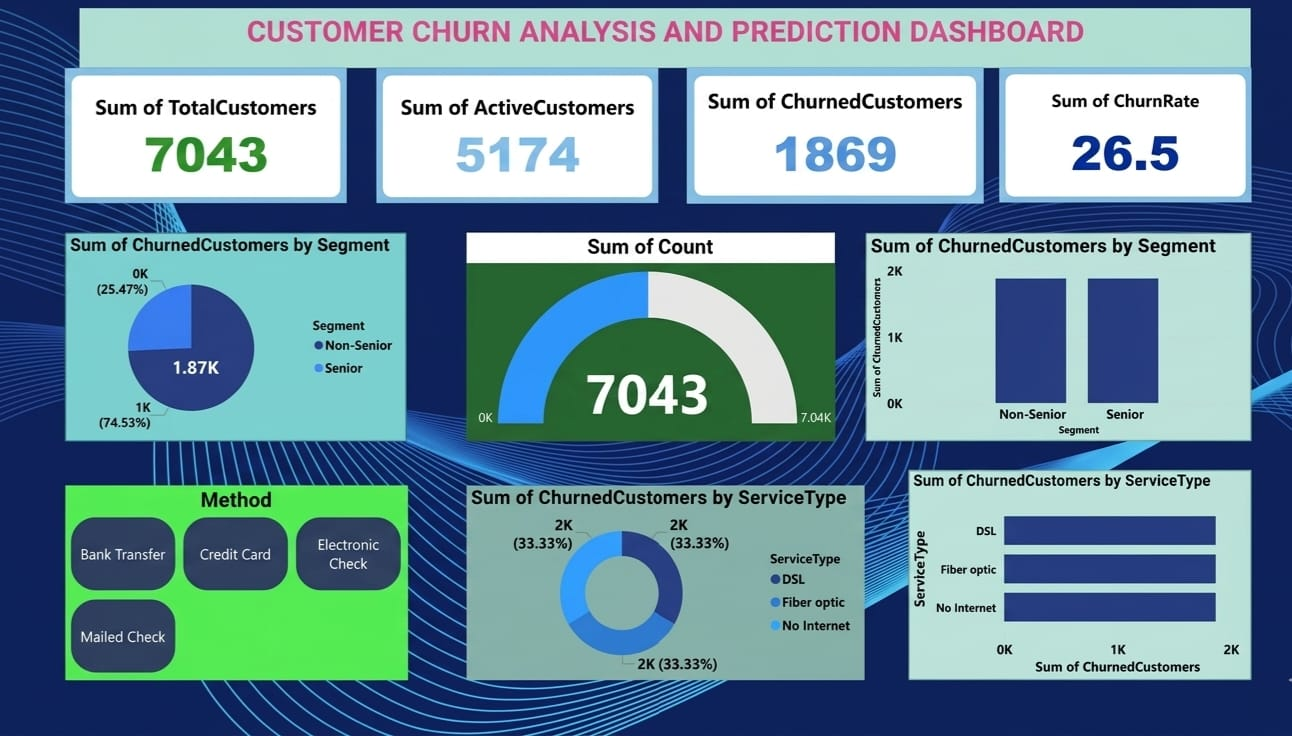

The page's visual inventory and layout, read from the dashboard file:
{"tool":"powerbi","page":{"name":"Page 1","canvas":[1280,720],"ordinal":0},"visuals":[{"type":"textbox","box":[0,0,1280,64],"z":0},{"type":"cardVisual","fields":{"Data":["Sum(KPI.TotalCustomers)"]},"box":[0,64,304,144],"z":1000},{"type":"cardVisual","fields":{"Data":["Sum(KPI.ActiveCustomers)"]},"box":[336,64,304,144],"z":2000},{"type":"cardVisual","fields":{"Data":["Sum(KPI.ChurnedCustomers)"]},"box":[672,64,320,144],"z":3000},{"type":"cardVisual","fields":{"Data":["Sum(KPI.ChurnRate)"]},"box":[1008,64,272,144],"z":4000},{"type":"pieChart","fields":{"Category":["Row (4).Segment"],"Y":["Sum(Row (4).ChurnedCustomers)"]},"box":[0,240,368,224],"z":5000},{"type":"advancedSlicerVisual","fields":{"Values":["Row (3).Method"]},"box":[0,512,368,208],"z":6000},{"type":"clusteredColumnChart","fields":{"Y":["Sum(KPI.ChurnedCustomers)"],"Category":["Row (4).Segment"]},"box":[912,240,368,224],"z":7000},{"type":"barChart","fields":{"Category":["Row (2).ServiceType"],"Y":["Sum(KPI.ChurnedCustomers)"]},"box":[912,512,368,208],"z":8000},{"type":"gauge","fields":{"Y":["Sum(Row (3).Count)"]},"box":[432,240,400,224],"z":9000},{"type":"donutChart","fields":{"Category":["Row (2).ServiceType"],"Y":["Sum(KPI.ChurnedCustomers)"]},"box":[432,512,432,208],"z":10000}]}

Visuals, with their boxes in screenshot pixels (x1, y1, x2, y2), scaled from the page's 1280x720 canvas onto the 1292x736 screenshot:
textbox: 0:0:1291:65
cardVisual - Sum(KPI.TotalCustomers): 0:65:307:213
cardVisual - Sum(KPI.ActiveCustomers): 339:65:646:213
cardVisual - Sum(KPI.ChurnedCustomers): 678:65:1001:213
cardVisual - Sum(KPI.ChurnRate): 1017:65:1291:213
pieChart - Row (4).Segment x Sum(Row (4).ChurnedCustomers): 0:245:371:474
advancedSlicerVisual - Row (3).Method: 0:523:371:735
clusteredColumnChart - Sum(KPI.ChurnedCustomers) x Row (4).Segment: 921:245:1291:474
barChart - Row (2).ServiceType x Sum(KPI.ChurnedCustomers): 921:523:1291:735
gauge - Sum(Row (3).Count): 436:245:840:474
donutChart - Row (2).ServiceType x Sum(KPI.ChurnedCustomers): 436:523:872:735
